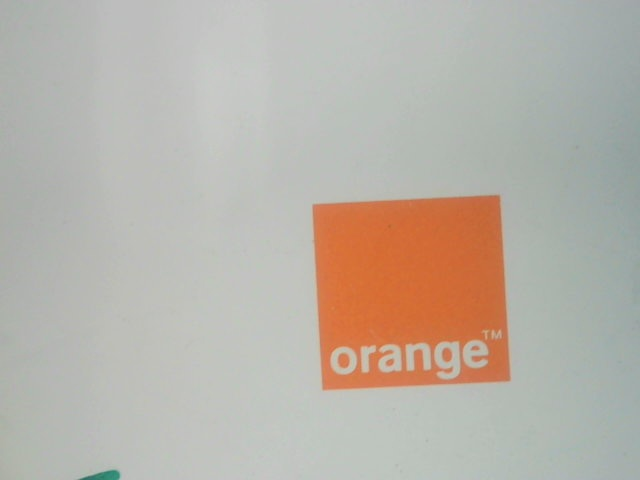AR_Orange: (302, 193, 523, 391)
